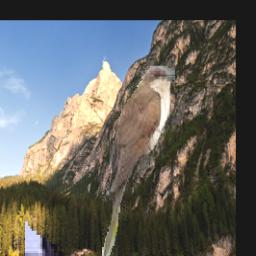Crow: (26, 63, 92, 256)
Cuckoo: (102, 66, 175, 256)
